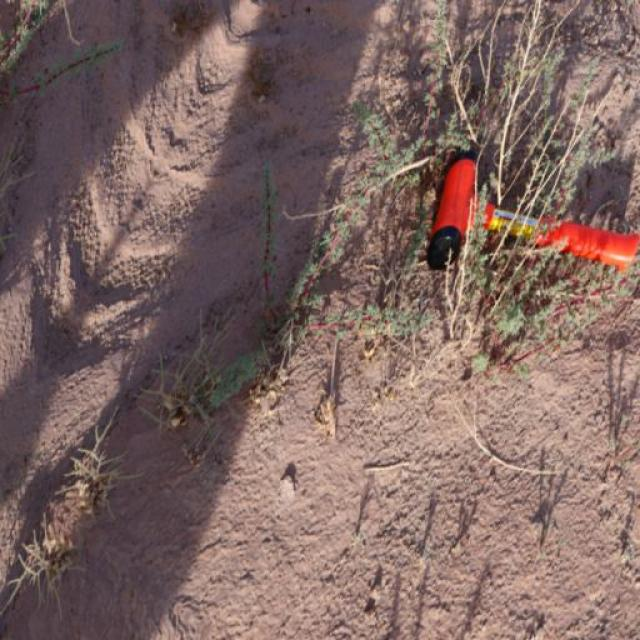mallet: (424, 147, 638, 275)
